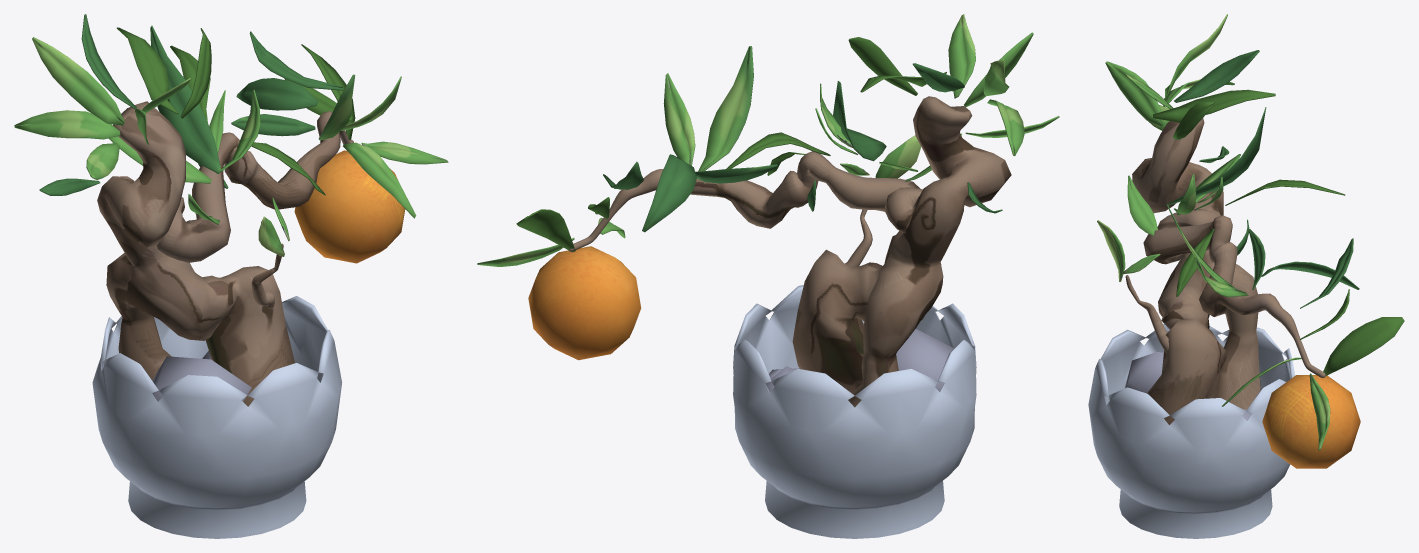
The model's file is bonsai.fbx.
The picture shows the model from 3 angles, left to right: view 1: azimuth 30°, elevation 25°; view 2: azimuth 150°, elevation 25°; view 3: azimuth 270°, elevation 25°; orthographic projection. The views are drawn at different scales.
Visible parts, largest first — view 1: Cylinder, Plane, Plane.016, Icosphere, Icosphere.001; view 2: Cylinder, Plane, Plane.016, Icosphere, Icosphere.001; view 3: Cylinder, Plane, Plane.016, Icosphere, Icosphere.001.
Boxes of the visible parts, x1,y1,x2,y2 form: Cylinder: (92, 296, 342, 538); Plane: (97, 101, 353, 406); Plane.016: (14, 14, 448, 256); Icosphere: (294, 150, 405, 263); Icosphere.001: (152, 356, 251, 401); Cylinder: (733, 285, 976, 538); Plane: (569, 96, 1011, 407); Plane.016: (477, 14, 1059, 266); Icosphere: (528, 246, 641, 360); Icosphere.001: (896, 329, 953, 391); Cylinder: (1088, 324, 1294, 538); Plane: (1125, 118, 1325, 424); Plane.016: (1097, 14, 1404, 450); Icosphere: (1262, 375, 1360, 468); Icosphere.001: (1124, 352, 1163, 393).
Size of the model in its own units: 486 by 472 by 320.
5 materials, 3 textured.
